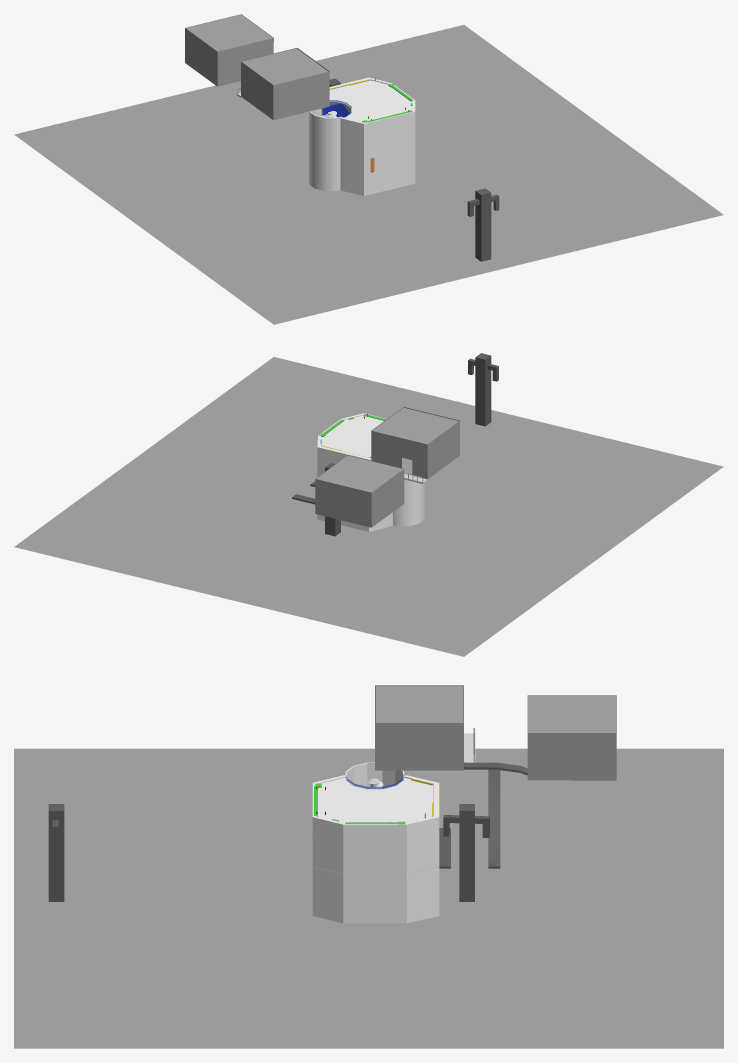
The model's file is testScene03.fbx.
3 views of the same model, one above another, from view 1: azimuth 30°, elevation 25°; view 2: azimuth 150°, elevation 25°; view 3: azimuth 270°, elevation 25° (orthographic). The views are drawn at different scales.
Parts seen in each view (by area): view 1: pPlane1, pCube1, pCube5, pCube20, pCube8; view 2: pPlane1, pCube20, pCube5, pCube1, pCube8; view 3: pPlane1, pCube1, pCube20, pCube5, pCube6, pCube8, pCube4.
Part boxes in pixels (x1=…): pPlane1: x1=14, y1=25, x2=723, y2=324; pCube1: x1=309, y1=77, x2=415, y2=195; pCube5: x1=241, y1=48, x2=329, y2=120; pCube20: x1=185, y1=14, x2=273, y2=86; pCube8: x1=475, y1=188, x2=491, y2=261; pPlane1: x1=14, y1=357, x2=723, y2=656; pCube20: x1=315, y1=455, x2=404, y2=527; pCube5: x1=371, y1=407, x2=459, y2=479; pCube1: x1=317, y1=413, x2=424, y2=531; pCube8: x1=475, y1=353, x2=491, y2=426; pPlane1: x1=14, y1=748, x2=723, y2=1048; pCube1: x1=312, y1=762, x2=439, y2=923; pCube20: x1=527, y1=695, x2=616, y2=780; pCube5: x1=375, y1=685, x2=463, y2=770; pCube6: x1=459, y1=804, x2=474, y2=901; pCube8: x1=48, y1=804, x2=64, y2=901; pCube4: x1=488, y1=766, x2=500, y2=868.
Bounding box in the file's own units: 6046 × 6046 × 1566.
Materials: 4 (1 with a texture image).
